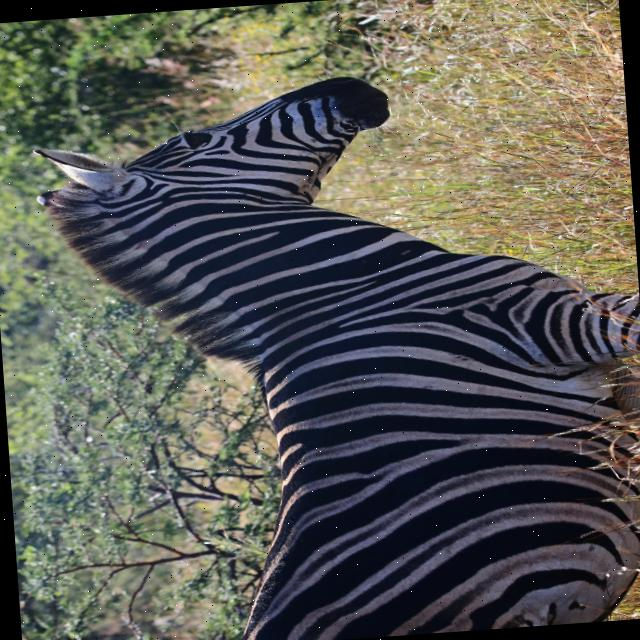Zebra: (25, 54, 640, 640)
